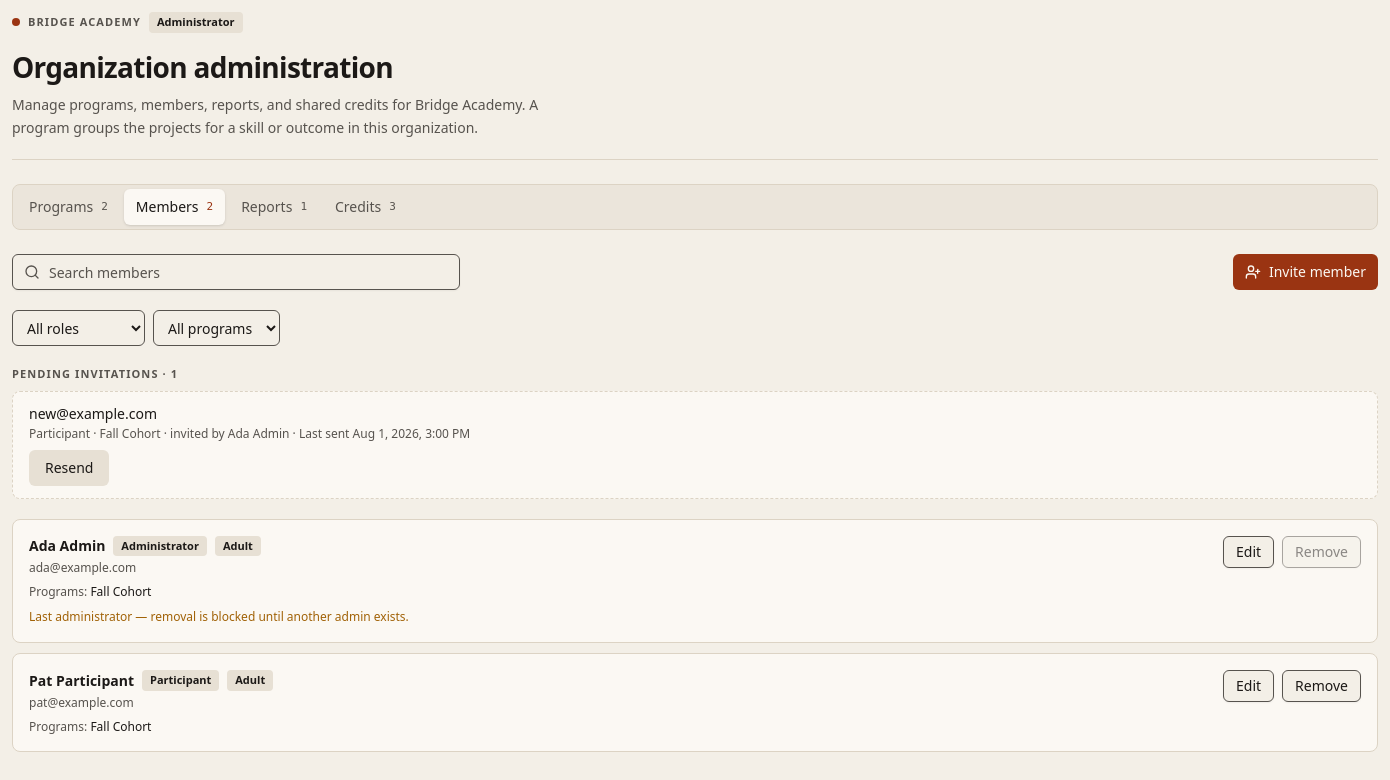
Test: OrgAdminPage › shows when an invite was last sent and confirms a resend
expect the text "Last sent" is shown: met, box [290,425,470,442]
expect the text "Manage programs, members, reports, and shared credits for" is shown: met, box [12,95,415,114]
Click the button "Resend" at (69, 468), box [29,450,110,486]
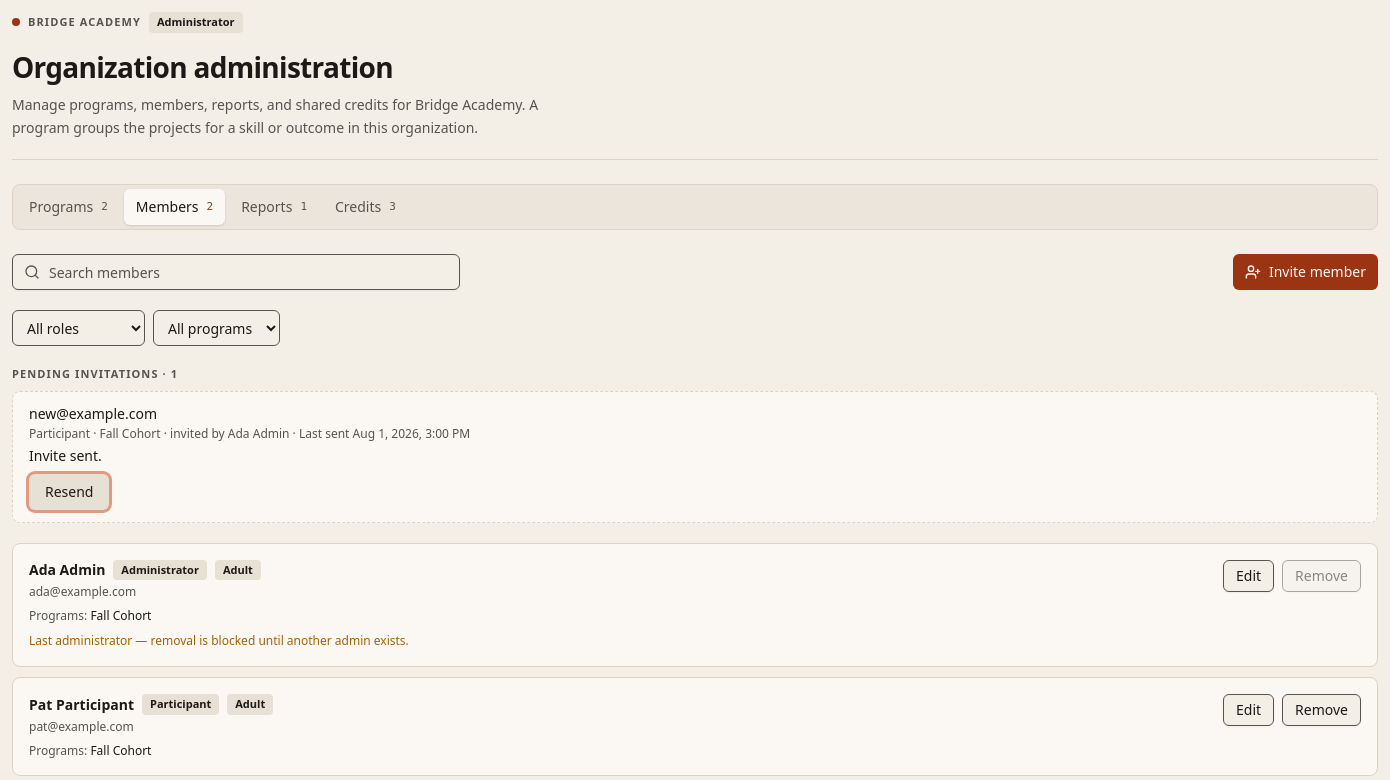
expect the text "Invite sent." is shown: met, box [29,446,102,465]
Click the button "Resend" at (69, 492), box [29,474,110,510]
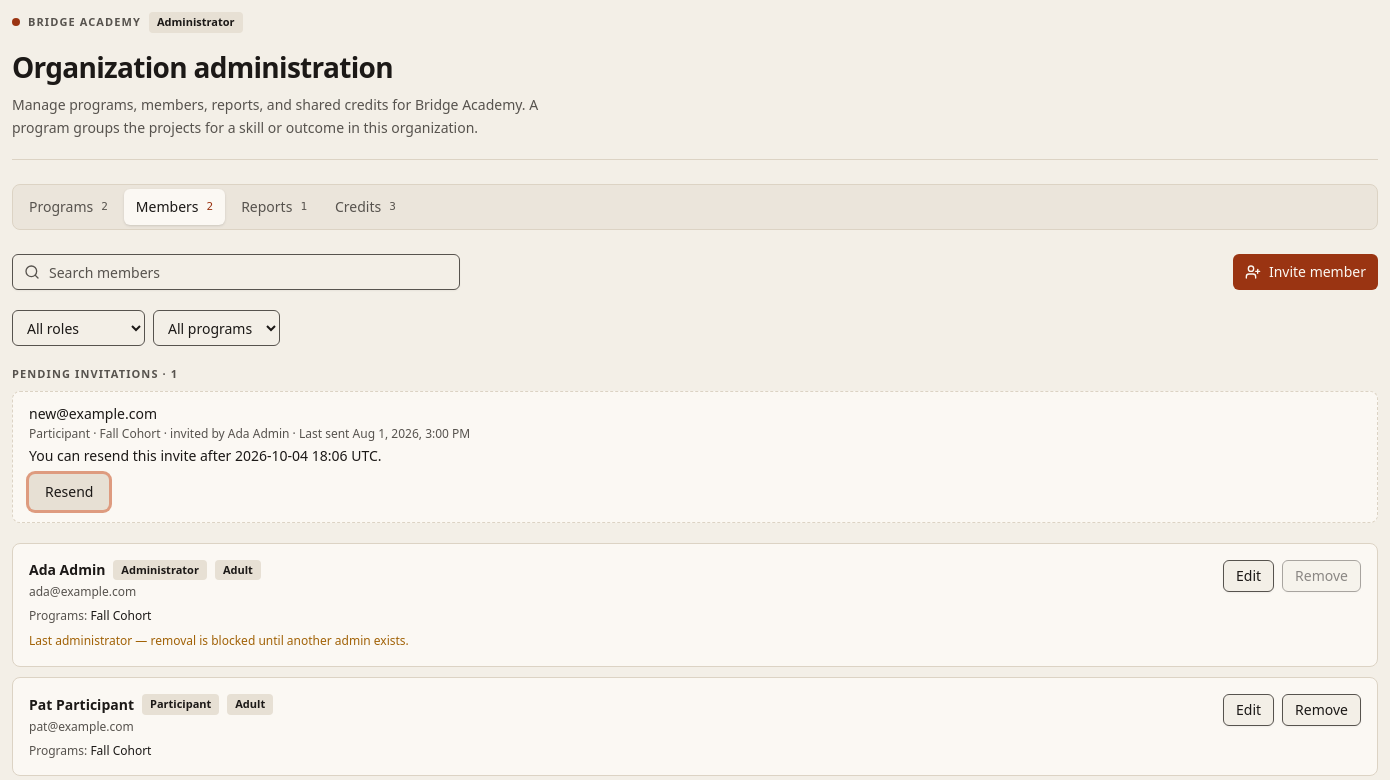
expect the text "You can resend this invite after 2026-10-04 18:06 UTC." is shown: met, box [29,446,382,465]
